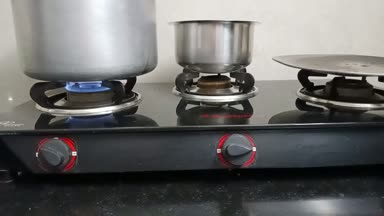flame_gas_off: (178, 68, 271, 173)
flame_gas_on: (26, 77, 140, 174)
